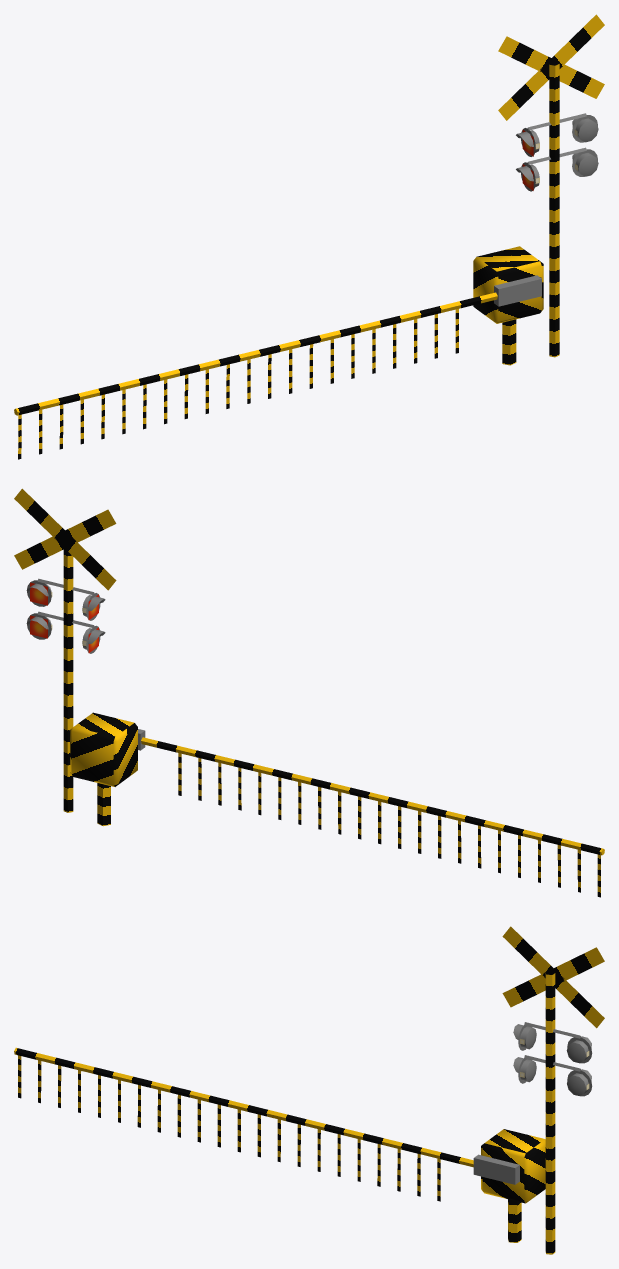
File: HUMI_ANI_L.glb
3 views of the same model, one above another, from view 1: azimuth 30°, elevation 25°; view 2: azimuth 150°, elevation 25°; view 3: azimuth 330°, elevation 25° (orthographic). The views are drawn at different scales.
Parts seen in each view (by area): view 1: Model, Joint_1; view 2: Model, Joint_1; view 3: Model, Joint_1.
Part boxes in pixels (x1,y1,x2,y2): Model: [473, 14, 604, 365]; Joint_1: [14, 275, 541, 459]; Model: [14, 488, 137, 826]; Joint_1: [138, 729, 604, 897]; Model: [481, 926, 604, 1254]; Joint_1: [14, 1047, 519, 1201].
Bounding box in the file's own units: 36.12 × 18.78 × 2.95.
Materials: 9 (9 with a texture image).
